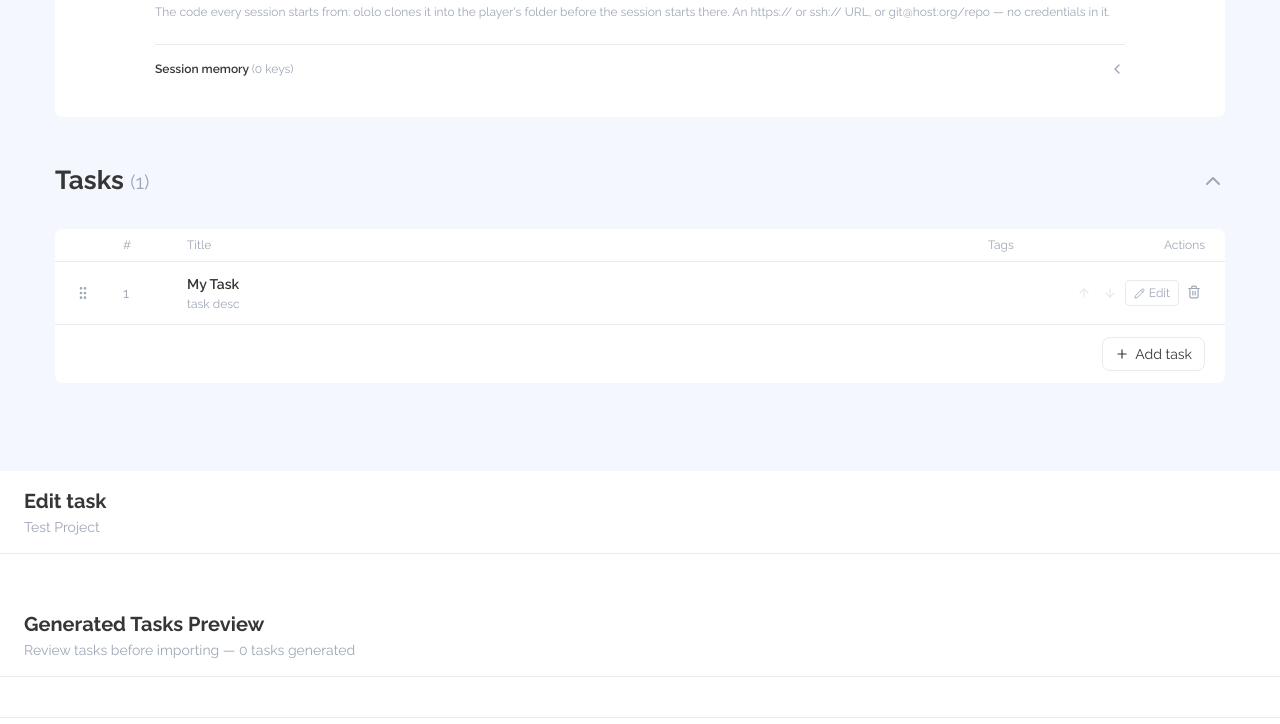
Scenario: routes/projects/[id=uuid]/edit/+page.svelte › Clicking Add Task button opens task form
The width and height of the screenshot is (1280, 724).
(page scrolled)
Click the button with test id "add-task-btn" at (1154, 354), box x1=1102 y1=337 x2=1205 y2=371
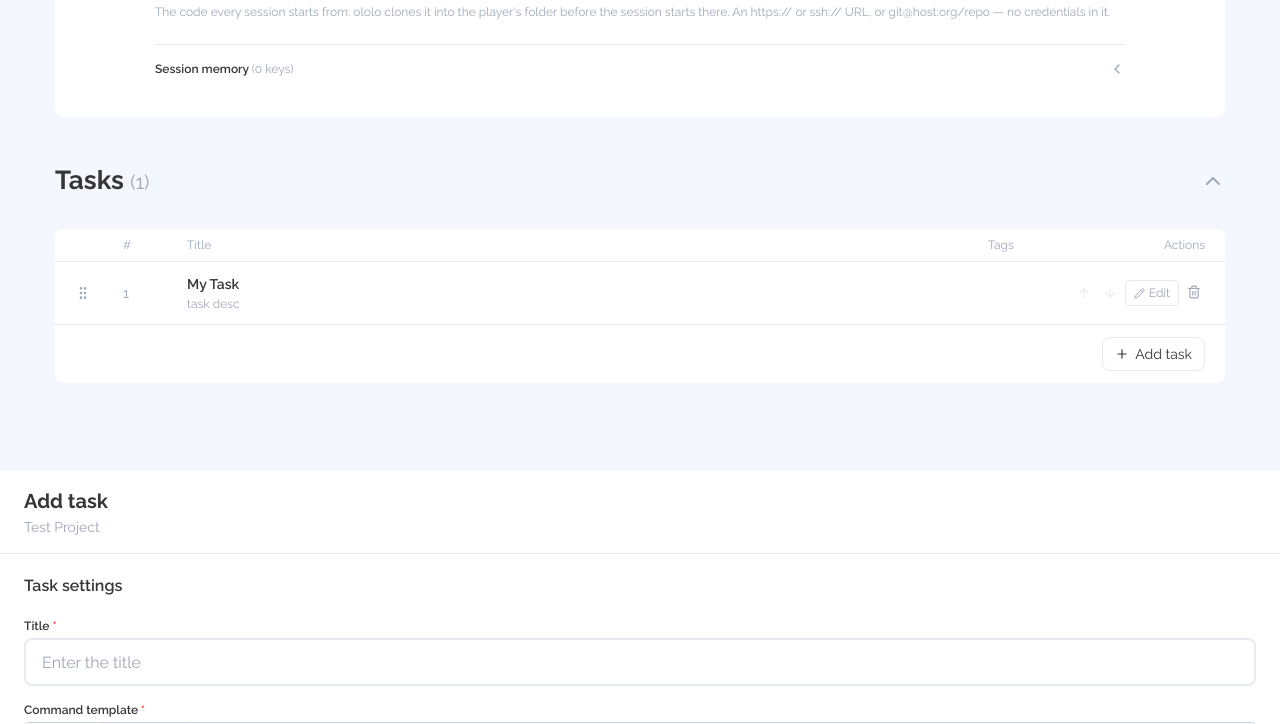
Expected: the field with test id "task-title" is shown, x1=24 y1=638 x2=1256 y2=686
